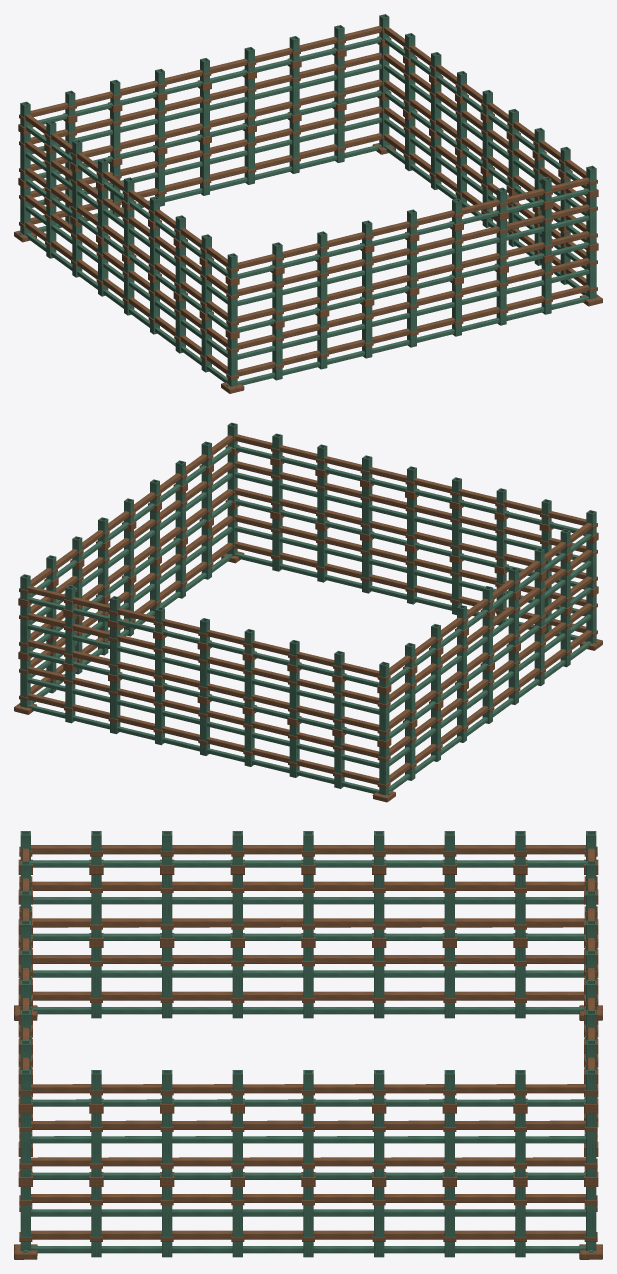
The picture shows the model from 3 angles, top to bottom: view 1: azimuth 30°, elevation 25°; view 2: azimuth 150°, elevation 25°; view 3: azimuth 270°, elevation 25°; orthographic projection. The views are drawn at different scales.
Visible parts, largest first — view 1: no part large enough to name; view 2: no part large enough to name; view 3: Tier 0 side 1 post 1, Tier 0 side 1 post 4, Tier 0 side 1 post 7, Tier 0 side 3 post 1, Tier 0 side 3 post 4, Tier 0 side 3 post 7, Tier 0 side 1 post 2, Tier 0 side 1 post 3, Tier 0 side 1 post 5, Tier 0 side 1 post 6, Tier 0 side 3 post 2, Tier 0 side 3 post 3 (+84 smaller).
Part boxes in pixels (box(x1,y1,x2,y2)): Tier 0 side 1 post 1: box(91, 1187, 101, 1257); Tier 0 side 1 post 4: box(303, 1187, 313, 1257); Tier 0 side 1 post 7: box(515, 1187, 525, 1257); Tier 0 side 3 post 1: box(515, 948, 525, 1018); Tier 0 side 3 post 4: box(303, 948, 313, 1018); Tier 0 side 3 post 7: box(91, 948, 101, 1018); Tier 0 side 1 post 2: box(162, 1187, 172, 1257); Tier 0 side 1 post 3: box(232, 1187, 242, 1257); Tier 0 side 1 post 5: box(374, 1187, 384, 1257); Tier 0 side 1 post 6: box(444, 1187, 454, 1257); Tier 0 side 3 post 2: box(444, 948, 454, 1018); Tier 0 side 3 post 3: box(374, 948, 384, 1018).
Size of the model in its own units: 3.75 by 1.29 by 3.75.
Materials: 2 (2 with a texture image).
